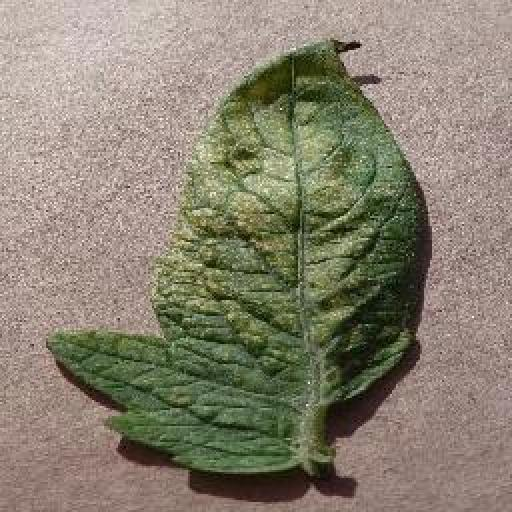disease_tomato: (46, 41, 426, 471)
